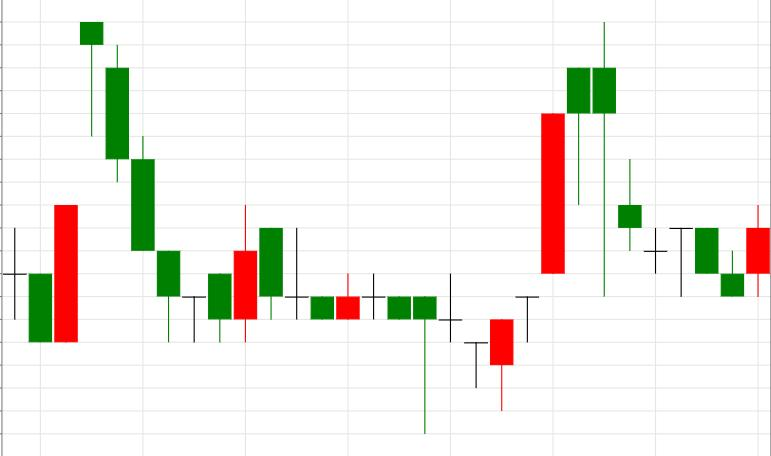hanging_man_fall: (464, 68, 590, 411)
three_black_crows_fall: (2, 21, 181, 342)
